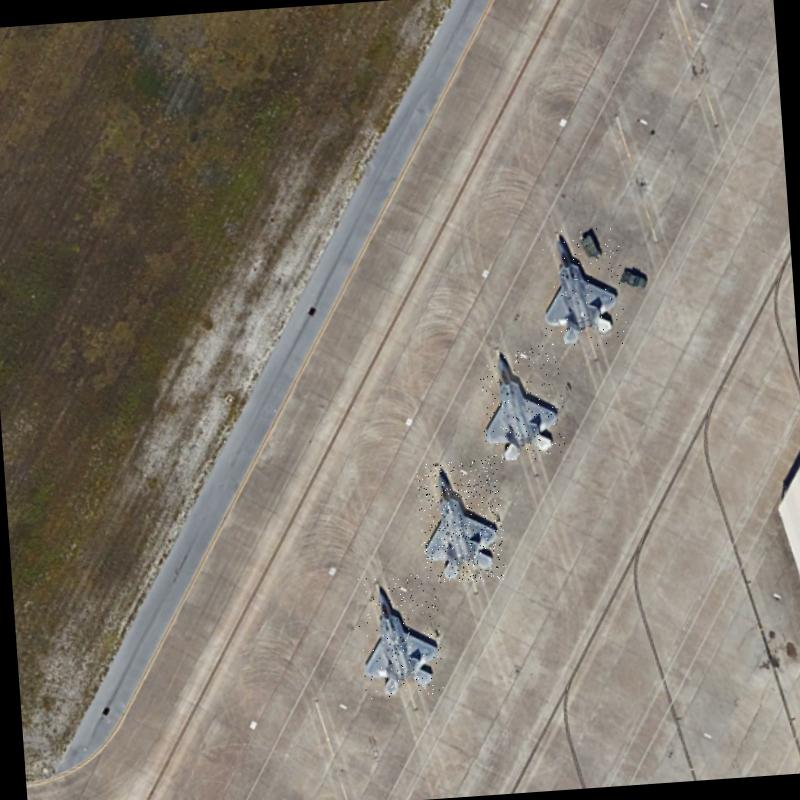A15: (416, 458, 507, 584), (536, 224, 628, 348), (355, 573, 444, 699), (477, 344, 566, 463)
